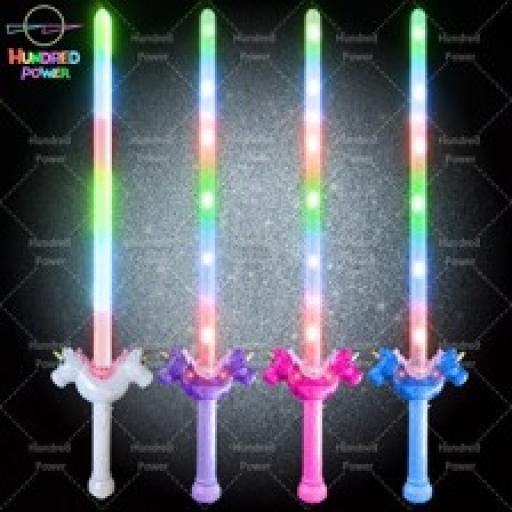lightsaber: (51, 8, 153, 503), (370, 10, 469, 504), (265, 10, 364, 503), (160, 9, 257, 504)
